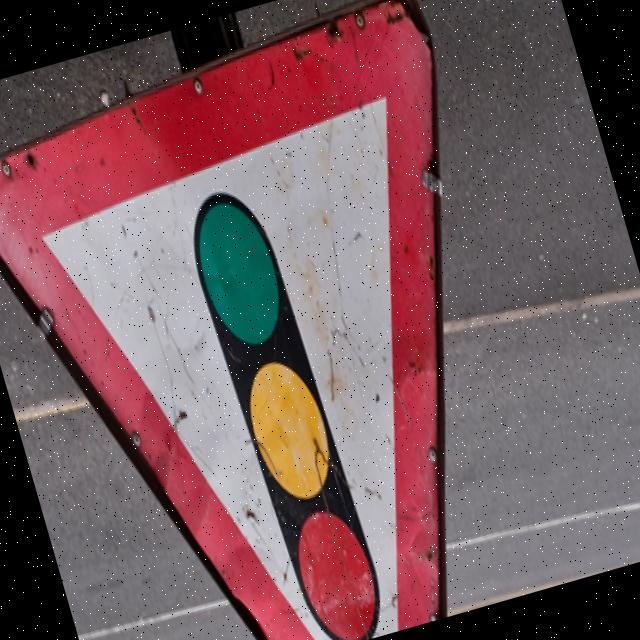light_traffic: (0, 0, 578, 640)
